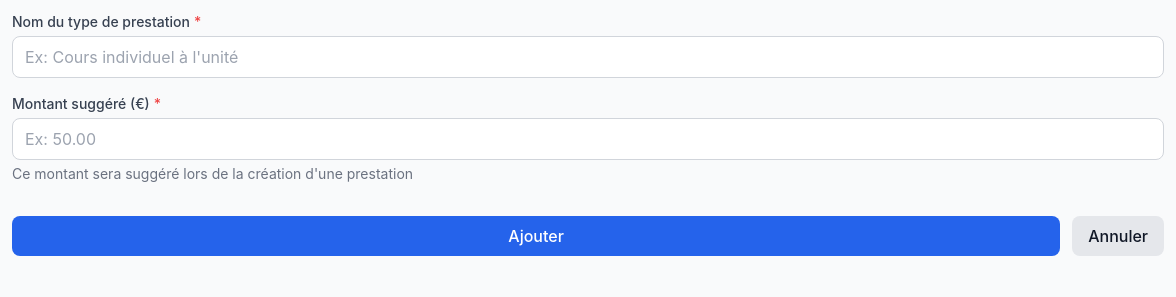
TypePrestationForm › clears field error when user types in the errored field
Submit the form
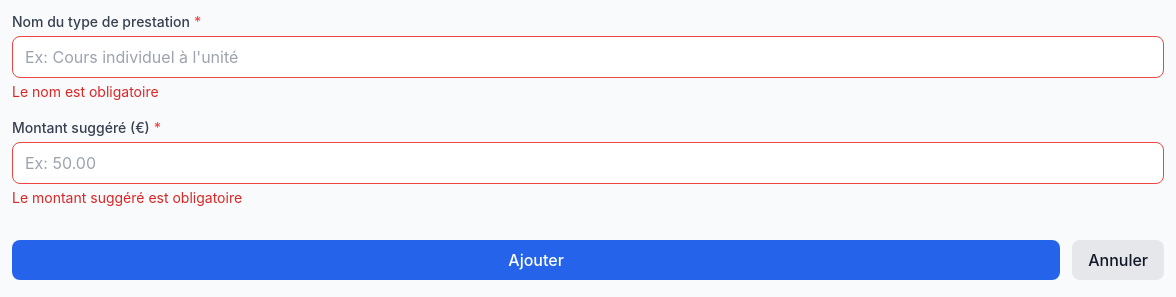
Result: the text "Le nom est obligatoire" is shown at [12,83,159,100]
Result: the text "Le montant suggéré est obligatoire" is shown at [12,189,242,206]
In the field: x=588, y=57 [12,36,1164,78], type "A"
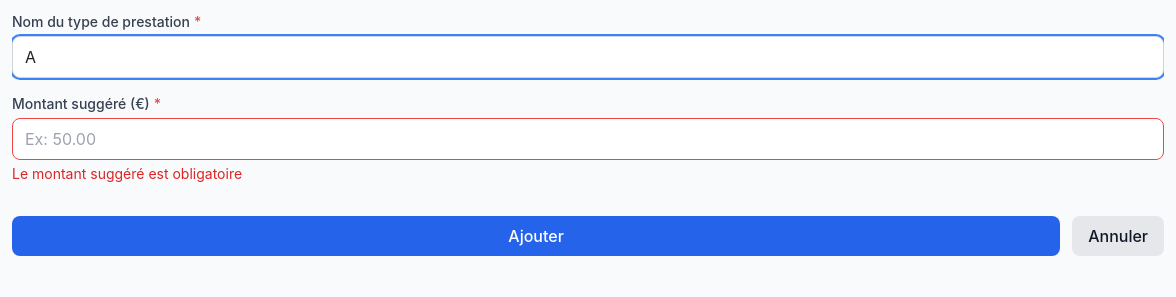
Result: the text "Le montant suggéré est obligatoire" is shown at [12,165,242,182]
Result: the text "Le nom est obligatoire" is gone
